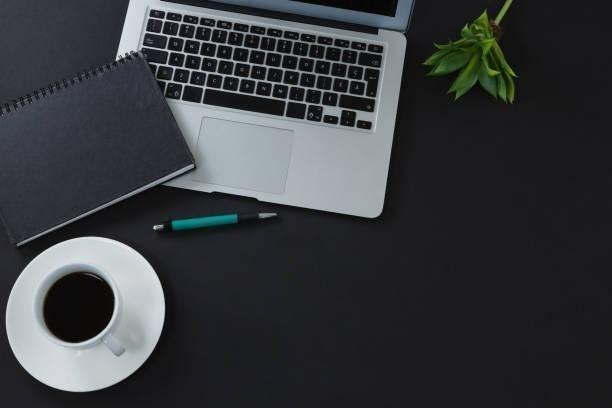cup-handle: (33, 261, 128, 357)
